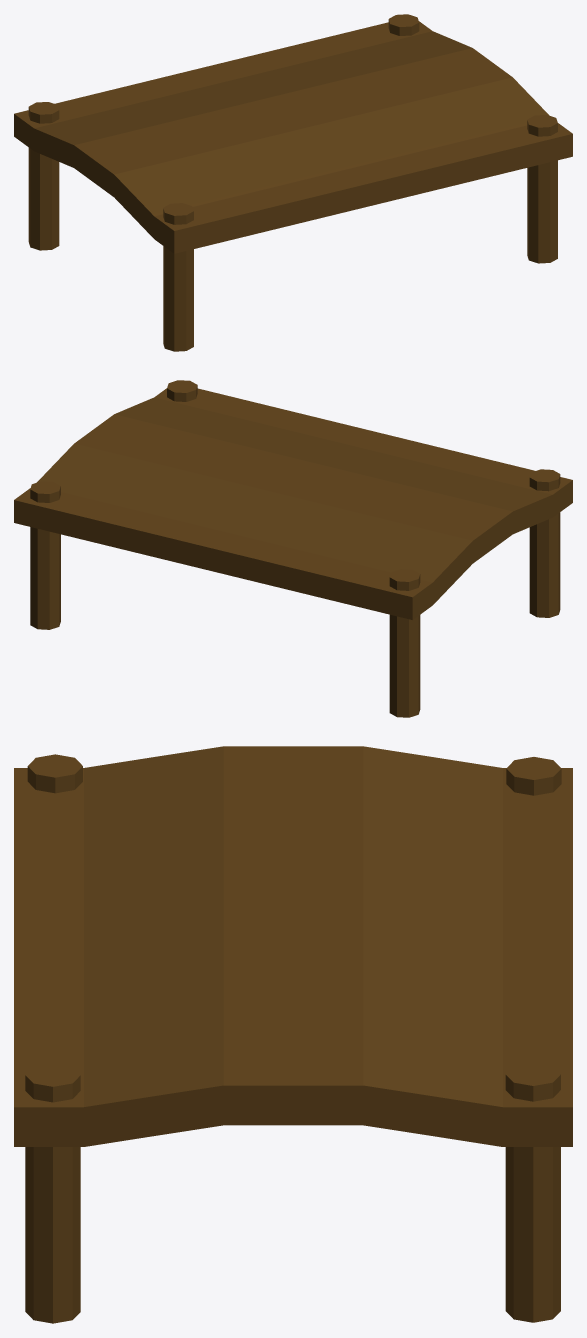
File: OutdoorTable_v003(UV_Unwrapped).fbx
3 views of the same model, one above another, from view 1: azimuth 30°, elevation 25°; view 2: azimuth 150°, elevation 25°; view 3: azimuth 270°, elevation 25° (orthographic). The views are drawn at different scales.
Visible parts, largest first — view 1: Table; view 2: Table; view 3: Table.
Part boxes in pixels (x1,y1,x2,y2): Table: [14, 14, 572, 351]; Table: [14, 380, 572, 717]; Table: [14, 746, 572, 1323].
Size of the model in its own units: 614 by 205 by 428.
